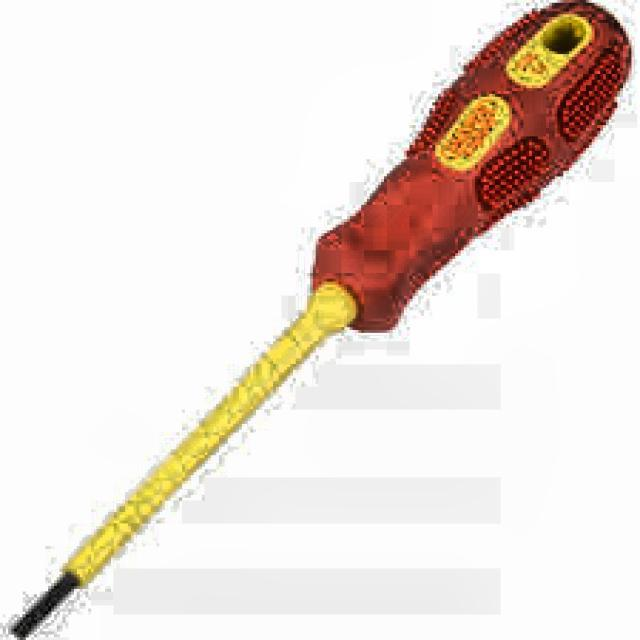screwdriver: (12, 0, 628, 638)
